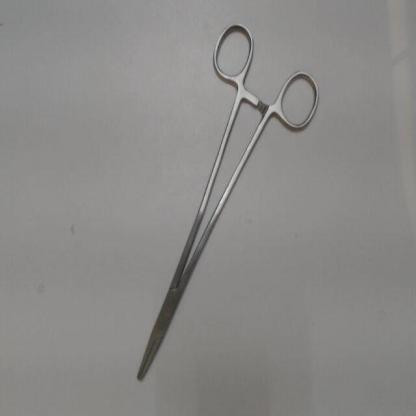8 Mayo Needle Holder: (127, 16, 328, 396)
